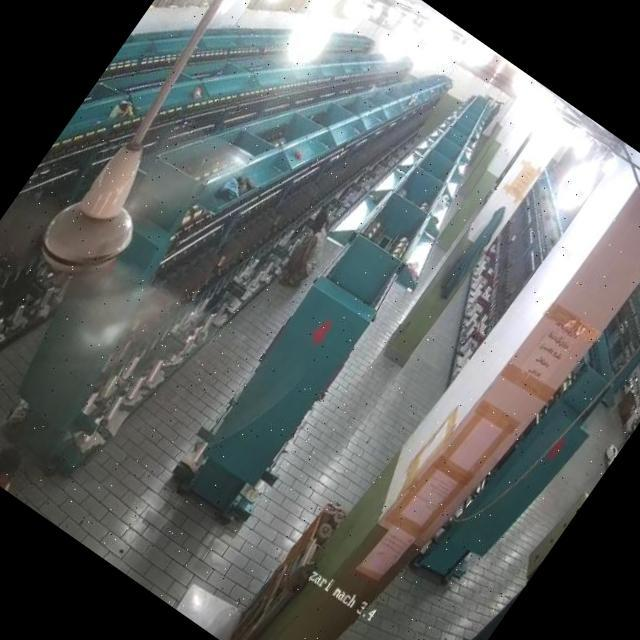person: (272, 206, 348, 296), (0, 441, 49, 505)
